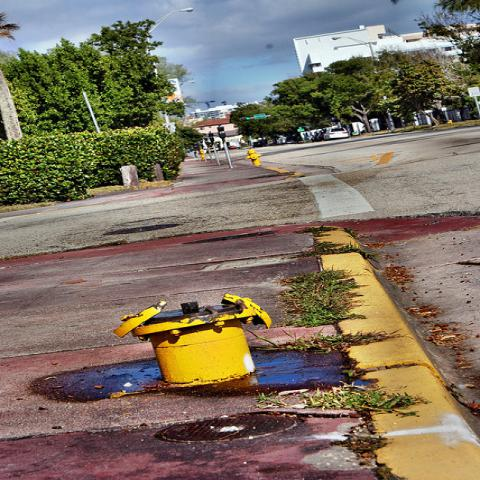car: (323, 125, 349, 141)
